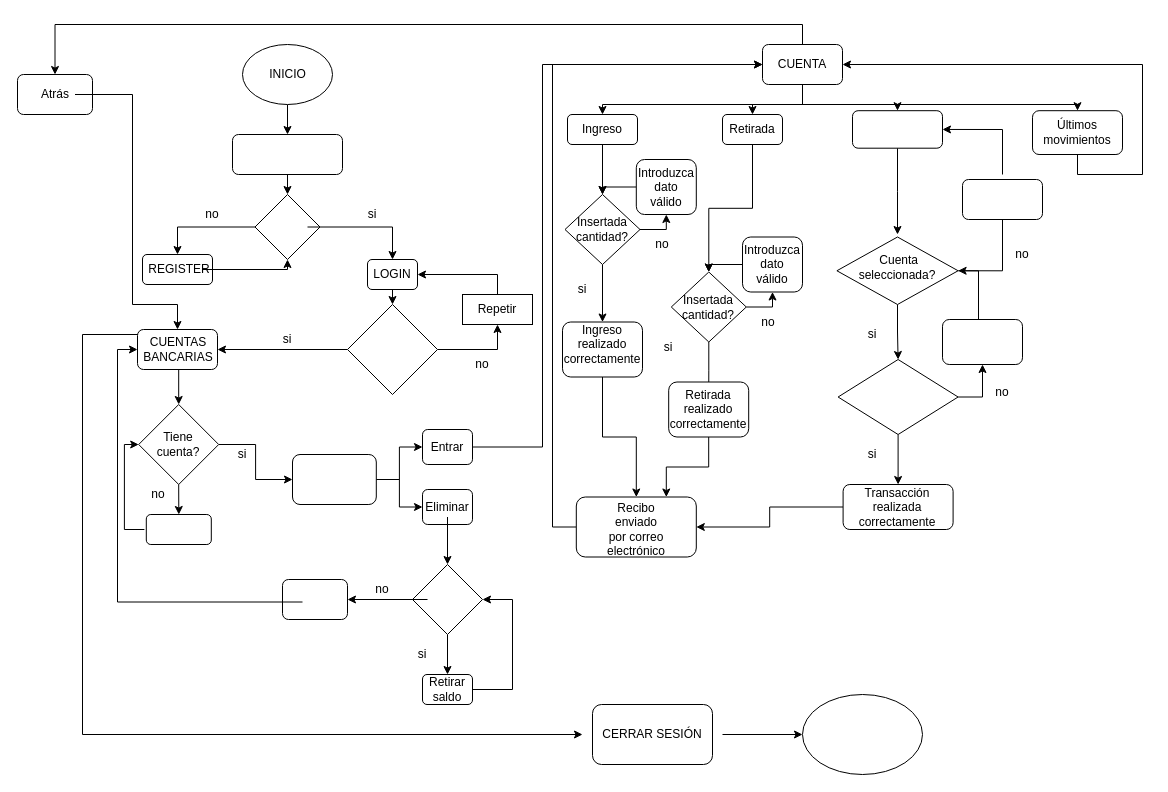
Some shapes in this 1168 by 792 pixel diagram are drawn without their labels. The shapes that lost their labels are listed below. From the top down, each one's centre as x and y in pixels, then its label:
the point at 897,129: Transferecia
the point at 287,154: CREDENCIALES
the point at 1002,199: Indica una cuenta
the point at 287,227: Tienes cuenta?
the point at 392,349: Credenciales correctas?
the point at 982,341: Indica una cantidad
the point at 897,396: Cantidad seleccionada?
the point at 334,479: Seleccionar cuenta
the point at 178,529: Agregar cuenta
the point at 315,599: Eliminación definitiva
the point at 447,599: Tiene saldo?
the point at 862,734: FIN
